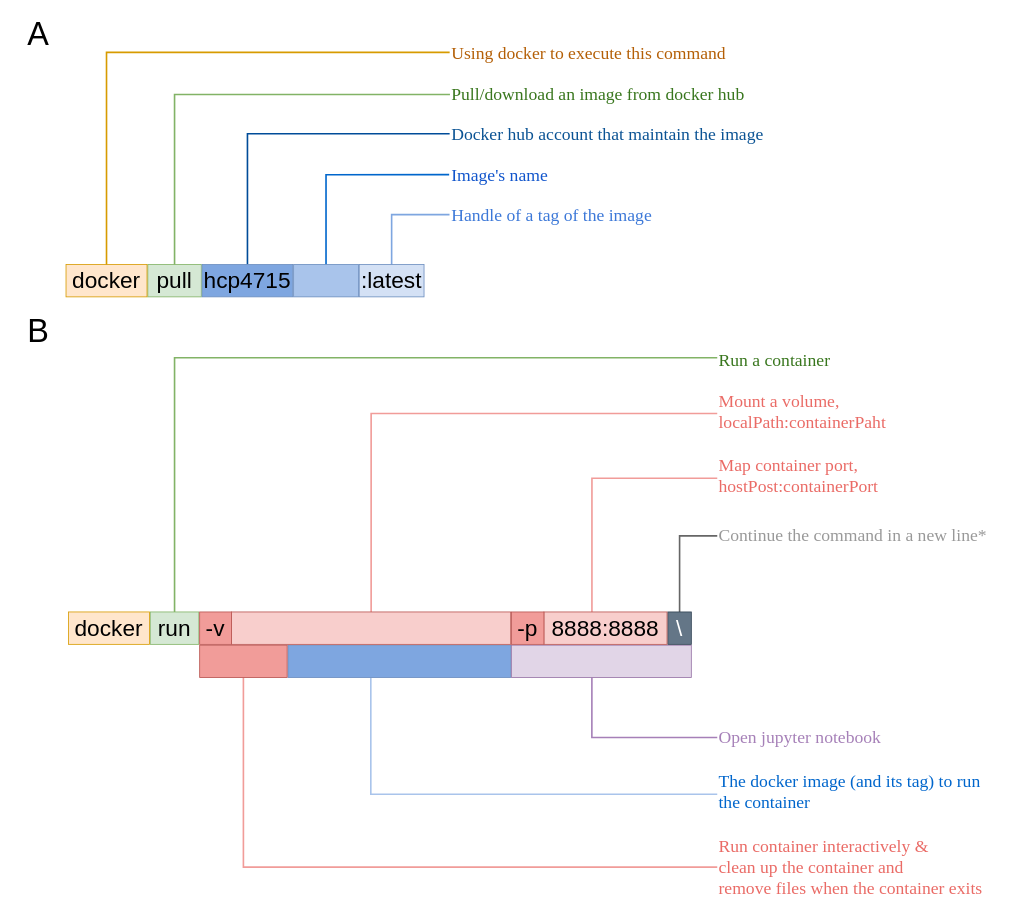
This 1014x917 diagram has some shape labels left out. The centre of each missing label's shape, as x and y in pixels:
$(pwd):/home/jovyan/work: point 371,627
-it --rm: point 243,661
/hddm: point 325,280
hcp4715/hddm:latest: point 399,661
jupyter notebook: point 601,661
